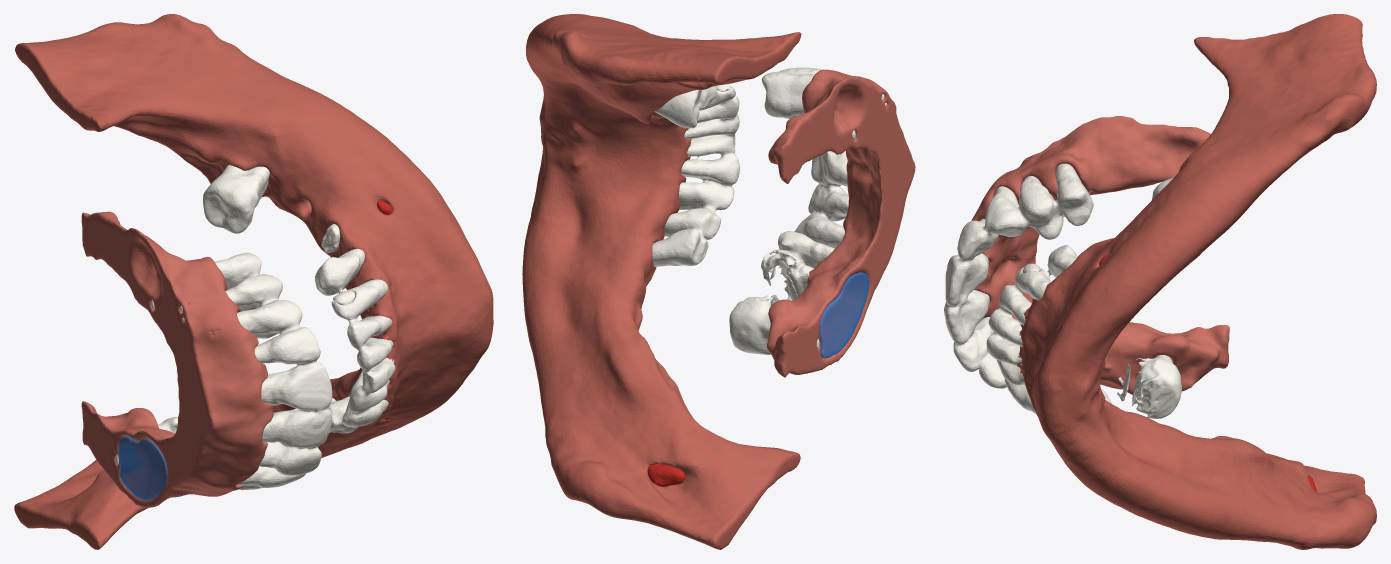
The model's file is jaw.glb.
3 renders of one model, left to right at view 1: azimuth 30°, elevation 25°; view 2: azimuth 150°, elevation 25°; view 3: azimuth 270°, elevation 25°, orthographic.
Parts seen in each view (by area): view 1: mandible, maxilla, upper_teeth, lower_teeth, sinus; view 2: mandible, maxilla, upper_teeth, lower_teeth, sinus, nerve_canal; view 3: mandible, maxilla, upper_teeth, lower_teeth.
Boxes of the visible parts, box(x1,y1,x2,y2) form: mandible: box(14, 14, 493, 549); maxilla: box(81, 211, 277, 507); upper_teeth: box(115, 252, 355, 490); lower_teeth: box(203, 165, 395, 433); sinus: box(118, 436, 167, 500); mandible: box(522, 14, 801, 549); maxilla: box(767, 69, 915, 377); upper_teeth: box(717, 67, 886, 354); lower_teeth: box(652, 85, 739, 266); sinus: box(819, 272, 869, 358); nerve_canal: box(647, 464, 685, 486); mandible: box(1017, 14, 1376, 549); maxilla: box(958, 116, 1229, 394); upper_teeth: box(944, 163, 1181, 418); lower_teeth: box(986, 177, 1173, 413).
Size of the model in its own units: 0.6999 by 1 by 0.8196.
